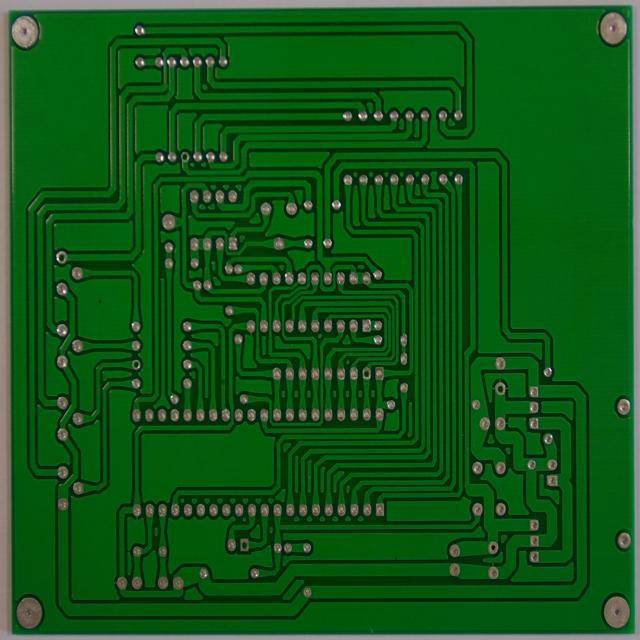missing_hole: (493, 379, 509, 397), (53, 247, 69, 265), (238, 535, 252, 554), (361, 365, 371, 382), (179, 149, 191, 163), (131, 357, 142, 372)
